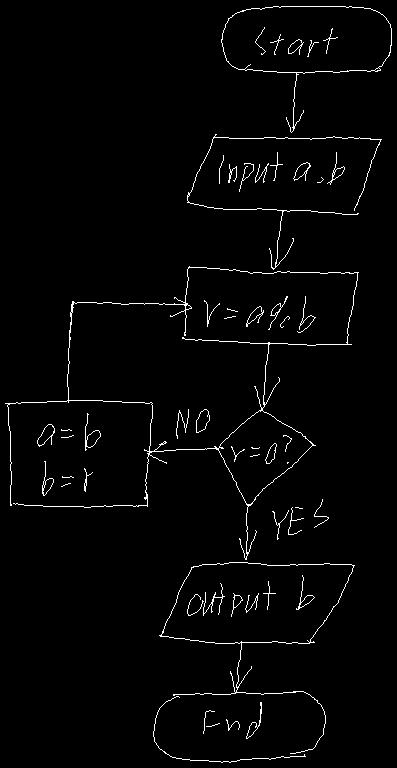arrow: (67, 297, 191, 402), (144, 441, 223, 463), (254, 342, 279, 410), (269, 210, 293, 269), (230, 641, 251, 693), (286, 73, 303, 132), (239, 504, 256, 559)
data: (159, 562, 354, 643), (187, 134, 381, 214)
decision: (214, 409, 315, 505)
process: (5, 400, 152, 507), (182, 266, 358, 345)
terminator: (153, 691, 325, 762), (221, 6, 391, 73)
text: (187, 575, 314, 616), (37, 413, 100, 495), (219, 152, 344, 191), (204, 296, 315, 332), (255, 27, 337, 56), (272, 499, 328, 539), (203, 702, 261, 738), (231, 435, 291, 463), (176, 409, 209, 438)
